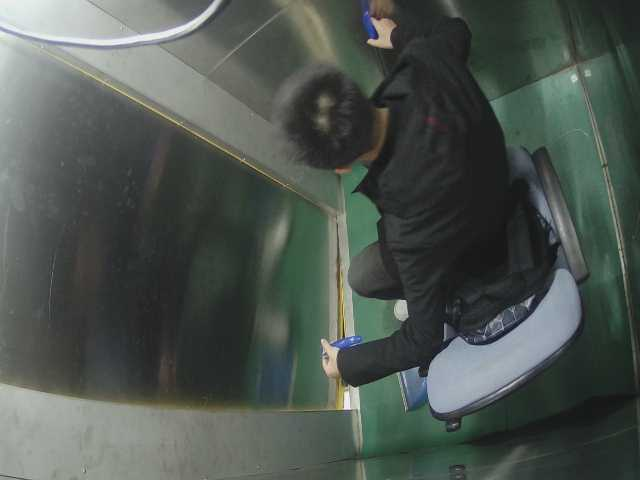chair: (422, 143, 587, 439)
person: (287, 1, 475, 395)
